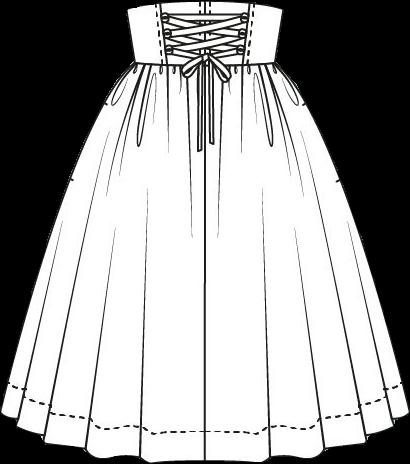Hemline: (1, 408, 409, 463)
Waistline: (126, 0, 283, 12), (131, 60, 279, 72)
